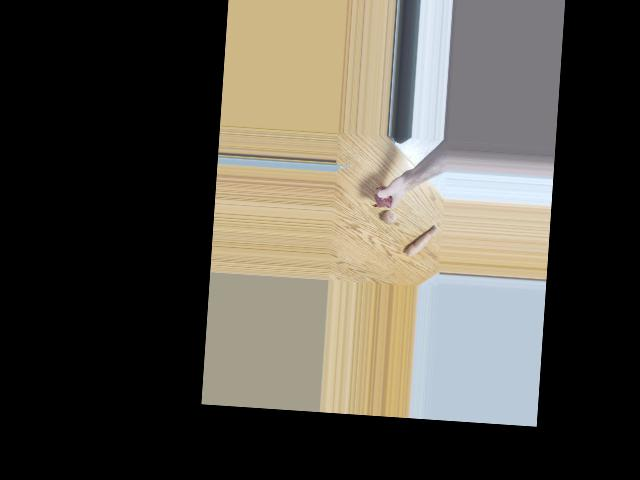onion: (383, 205, 402, 224)
